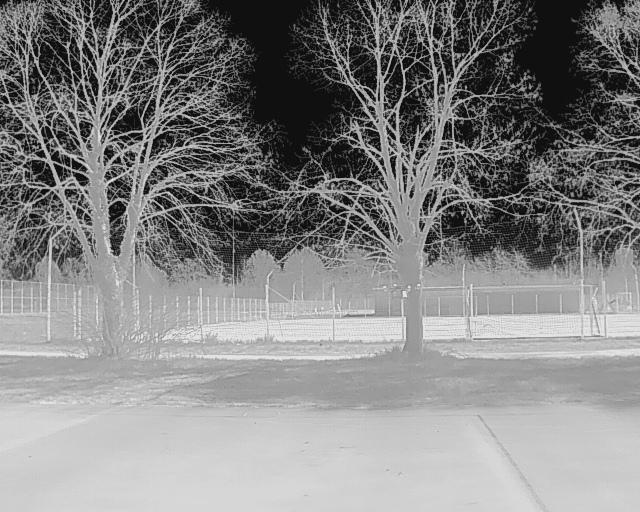drone: (367, 277, 432, 304)
